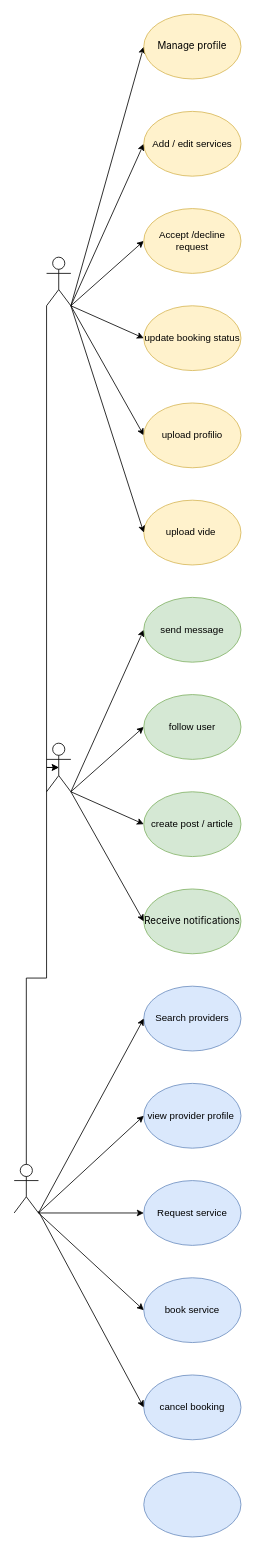
Image size: 255x1551. Some labels were removed from this diagram. The shapes that lost their labels are listed below. From the top down, each one's centre as x and y in pixels, then its label:
At point (58, 281): "provider".
At point (58, 767): "personne".
At point (25, 1188): "client".
At point (192, 1504): "submit review".
